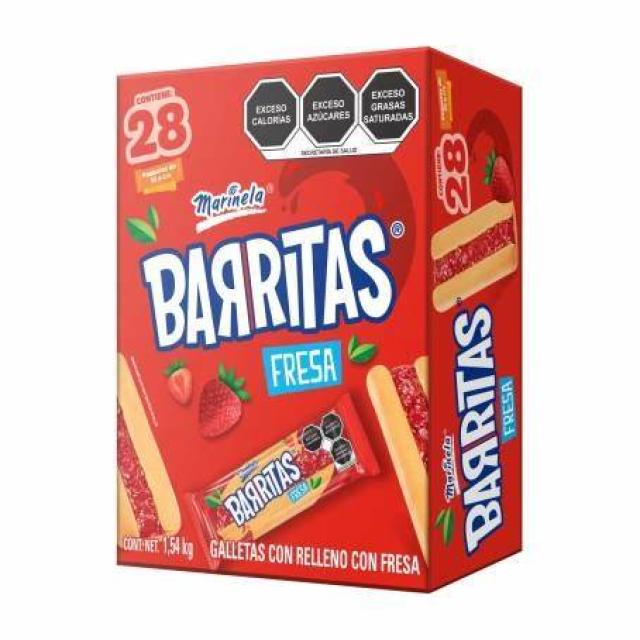Caja: (99, 49, 536, 594)
